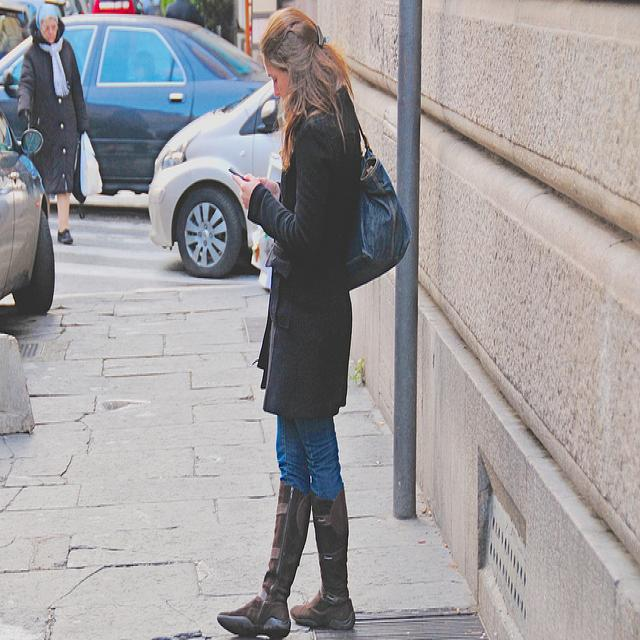Vehicle: (62, 20, 266, 191), (148, 84, 283, 278), (0, 105, 54, 315), (90, 0, 136, 15)
